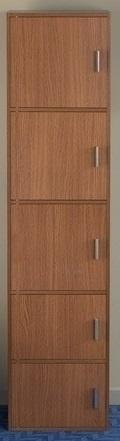cabinet_door: (10, 18, 108, 109), (11, 112, 108, 199), (12, 206, 108, 293), (11, 292, 105, 359), (12, 365, 107, 430)
handle: (88, 384, 101, 415), (91, 235, 101, 266), (90, 316, 99, 345), (92, 141, 100, 172), (95, 49, 103, 80)
